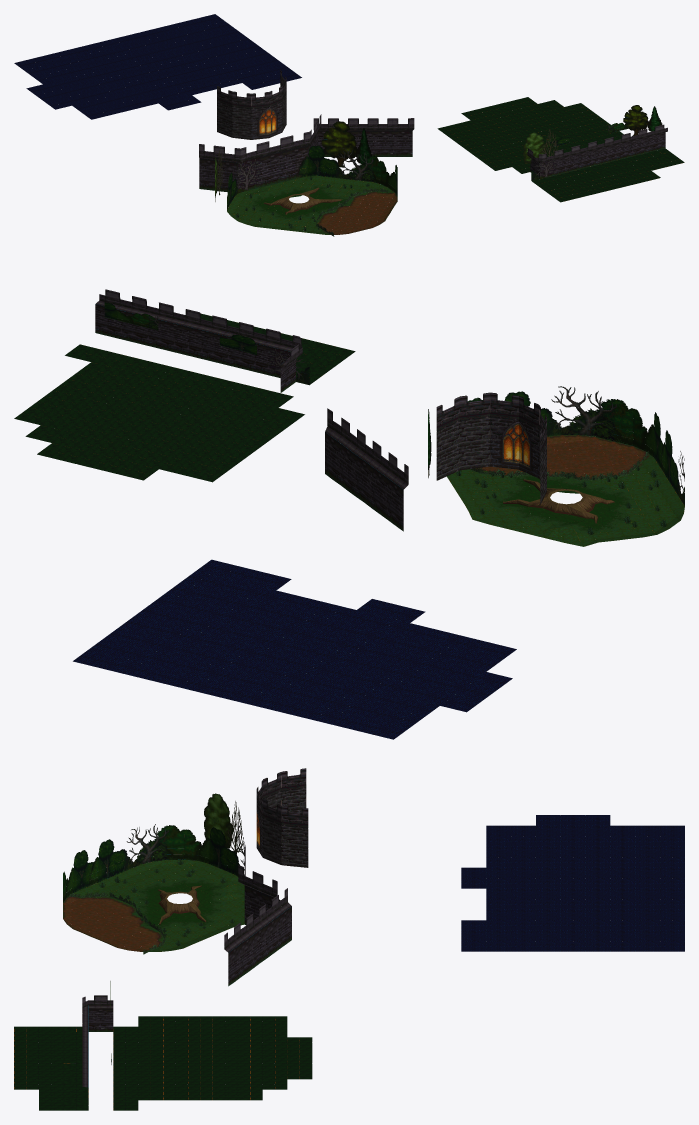
The picture shows the model from 3 angles, top to bottom: view 1: azimuth 30°, elevation 25°; view 2: azimuth 150°, elevation 25°; view 3: azimuth 270°, elevation 25°; orthographic projection. The views are drawn at different scales.
Visible parts, largest first — view 1: T1L1M005_134, T1L1M005_132, T1L1M005_115, T1L1M005_116, T1L1M005_267, T1L1M005_270, T1L1M005_157, T1L1M005_139, T1L1M005_104, T1L1M005_177, T1L1M005_265, T1L1M005_249 (+18 smaller); view 2: T1L1M005_118, T1L1M005_117, T1L1M005_105, T1L1M005_270, T1L1M005_116, T1L1M005_267, T1L1M005_121, T1L1M005_265, T1L1M005_268, T1L1M005_139, T1L1M005_258, T1L1M005_271 (+5 smaller); view 3: T1L1M005_105, T1L1M005_186, T1L1M005_118, T1L1M005_104, T1L1M005_241, T1L1M005_150, T1L1M005_249, T1L1M005_169, T1L1M005_223, T1L1M005_151, T1L1M005_121, T1L1M005_139 (+5 smaller).
Part boxes in pixels (x1,y1,x2,y2): T1L1M005_134: (272,135,298,186); T1L1M005_132: (238,142,262,194); T1L1M005_115: (232,91,251,139); T1L1M005_116: (251,92,269,139); T1L1M005_267: (565,142,592,179); T1L1M005_270: (615,130,642,167); T1L1M005_157: (333,121,349,183); T1L1M005_139: (373,118,392,156); T1L1M005_104: (217,86,232,137); T1L1M005_177: (354,128,373,187); T1L1M005_265: (531,150,558,188); T1L1M005_249: (523,132,547,176); T1L1M005_118: (460,392,490,470); T1L1M005_117: (490,392,518,469); T1L1M005_105: (436,396,459,480); T1L1M005_270: (135,297,179,352); T1L1M005_116: (519,396,539,478); T1L1M005_267: (216,317,259,371); T1L1M005_121: (372,443,400,525); T1L1M005_265: (269,330,324,385); T1L1M005_268: (189,311,219,362); T1L1M005_139: (341,421,361,496); T1L1M005_258: (633,409,657,462); T1L1M005_271: (108,291,139,342); T1L1M005_105: (281,806,308,867); T1L1M005_186: (149,824,184,872); T1L1M005_118: (263,798,281,864); T1L1M005_104: (281,768,306,813); T1L1M005_241: (82,841,106,893); T1L1M005_150: (202,795,233,872); T1L1M005_249: (88,981,113,1031); T1L1M005_169: (176,829,209,872); T1L1M005_223: (106,829,133,883); T1L1M005_151: (202,829,235,884); T1L1M005_121: (262,895,285,953); T1L1M005_139: (237,916,253,976).
Size of the model in its own units: 104 by 20.38 by 108.
Materials: 1 (1 with a texture image).
